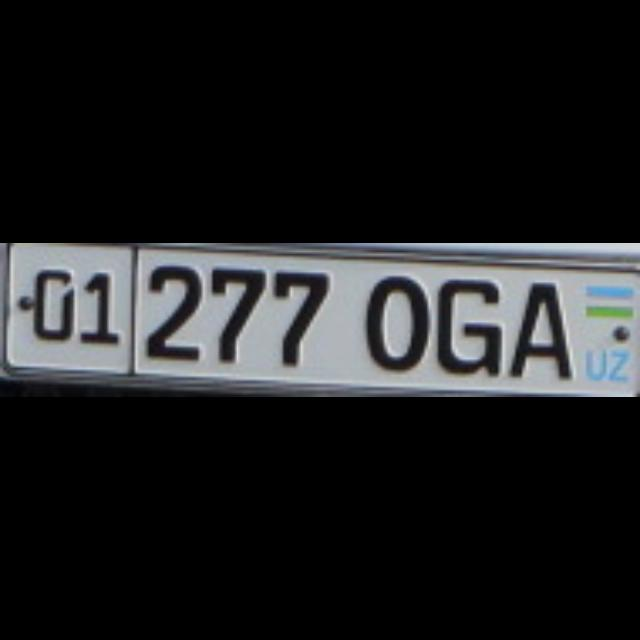0: (27, 263, 67, 337)
1: (74, 270, 118, 340)
2: (141, 260, 195, 358)
7: (205, 263, 262, 361), (270, 266, 326, 364)
A: (505, 277, 569, 375)
G: (431, 277, 495, 375)
O: (360, 273, 424, 367)
